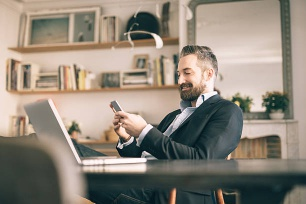male: (169, 38, 234, 109)
